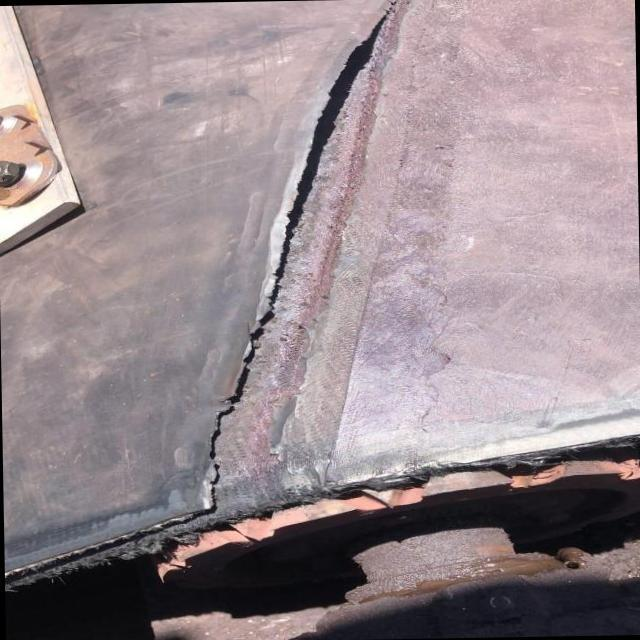Tear: (196, 0, 406, 522)
